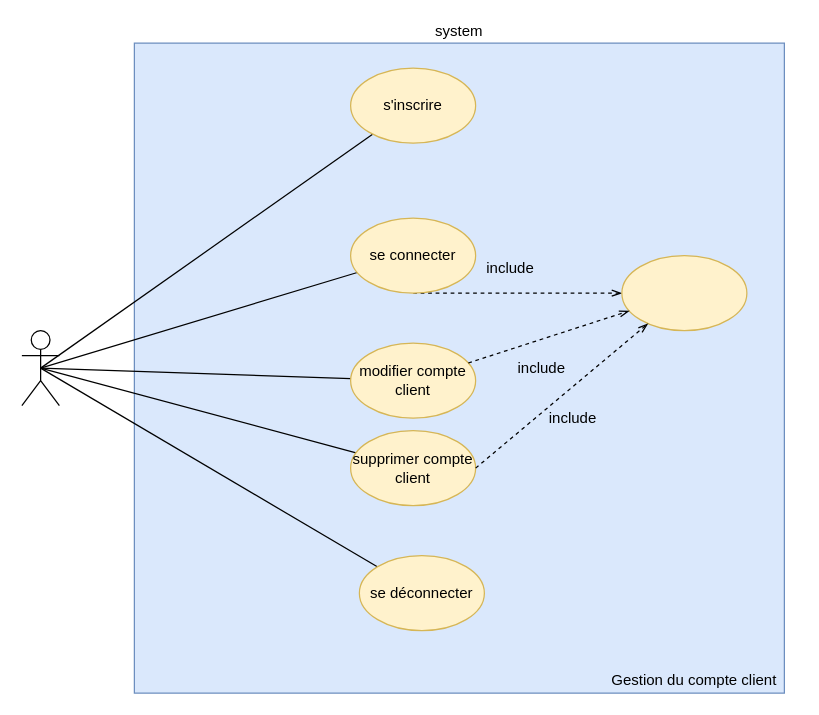
Image size: 819x715. Some labels were removed from this diagram. The shapes that lost their labels are listed below. From the top down, each one's centre as x and y in pixels, then its label:
(684,292): authentification
(40,367): Client
